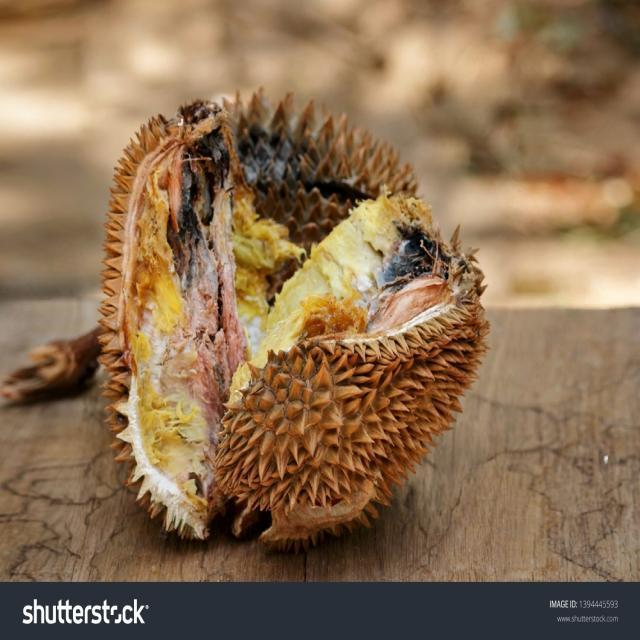defective: (92, 87, 493, 562)
